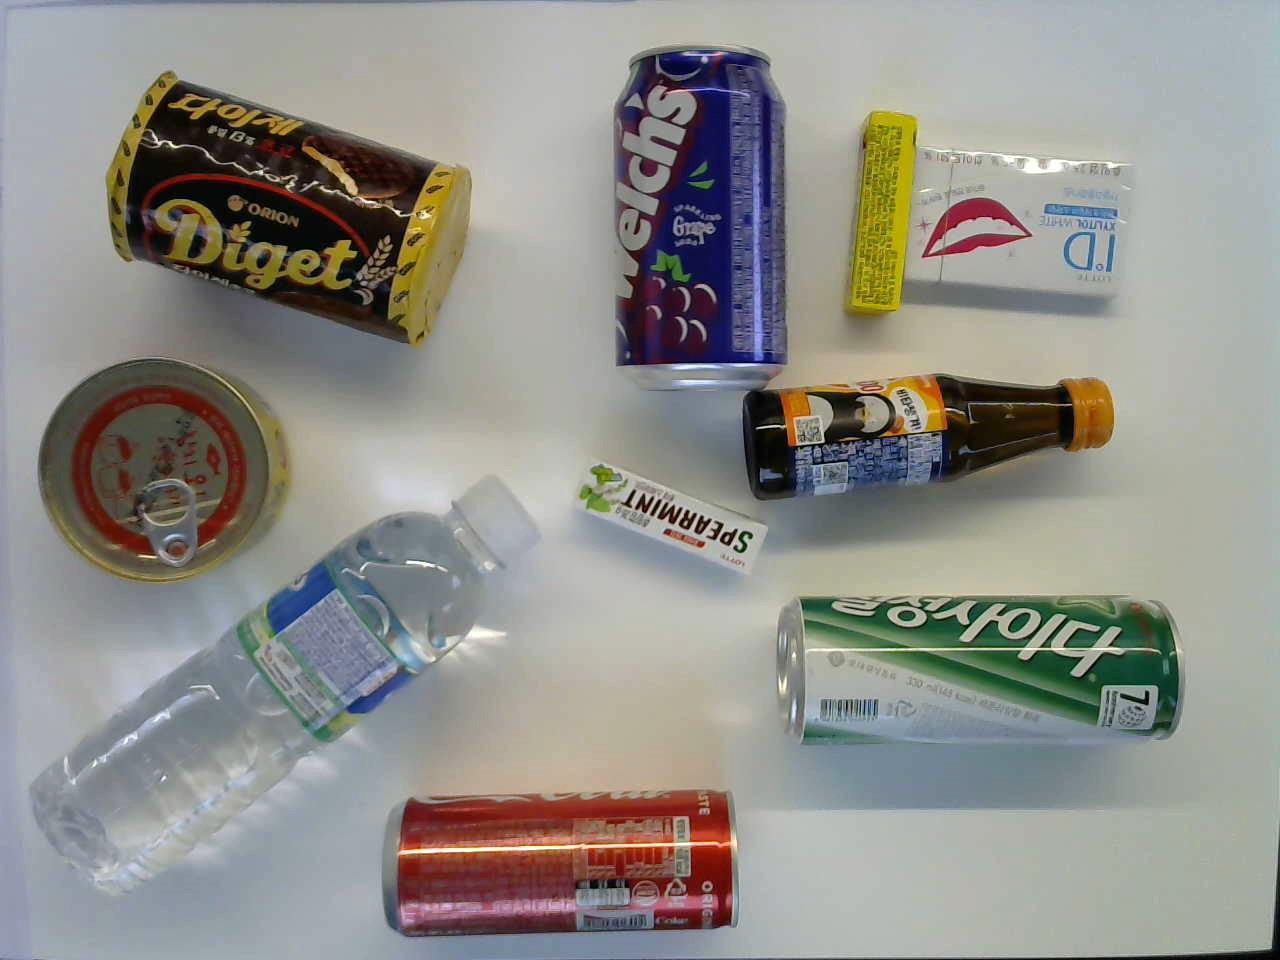ID_gum: (895, 146, 1148, 301)
cidar: (769, 596, 1189, 741)
coke: (376, 785, 742, 944)
diget_choco: (94, 63, 470, 352)
juicyfresh: (836, 107, 923, 312)
samdasu: (7, 468, 544, 903)
spearmint: (564, 455, 774, 575)
tuna: (25, 349, 300, 580)
vita500: (743, 363, 1114, 516)
welchs: (595, 40, 792, 389)
